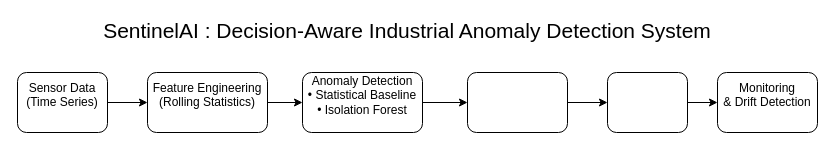
Image size: 835x150. Some labels were removed from this diagram. The shapes that lost their labels are listed below. From the top down, each one's box as (x1, y1, x2, y2) in pixels, then its label:
(466, 72, 568, 132): Decision Engine • Thresholds • Persistence
(606, 72, 688, 132): API Layer (FastAPI)
